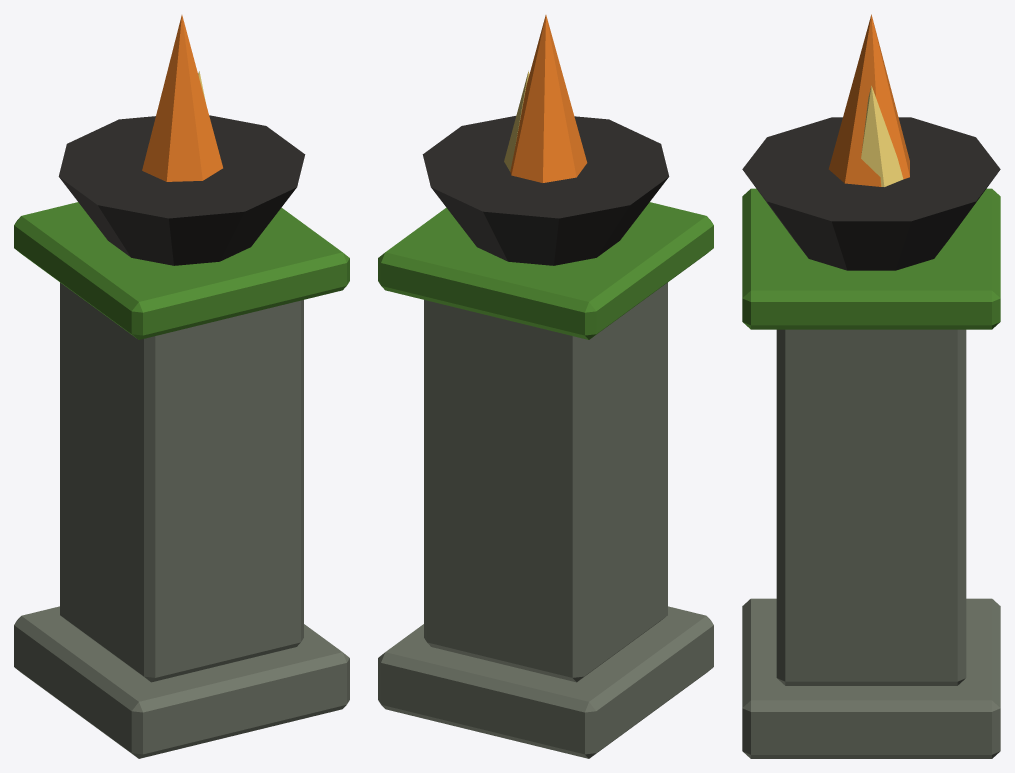
The model's file is Ruin_Brazier.fbx.
3 views of the same model, side by side, from view 1: azimuth 30°, elevation 25°; view 2: azimuth 150°, elevation 25°; view 3: azimuth 270°, elevation 25° (orthographic). The views are drawn at different scales.
Visible parts, largest first — view 1: Ruin_Brazier.001; view 2: Ruin_Brazier.001; view 3: Ruin_Brazier.001.
Boxes of the visible parts, x1,y1,x2,y2 form: Ruin_Brazier.001: [14, 15, 349, 758]; Ruin_Brazier.001: [378, 15, 713, 758]; Ruin_Brazier.001: [742, 14, 1000, 758].
Bounding box in the file's own units: 0.6 × 1.78 × 0.6.
